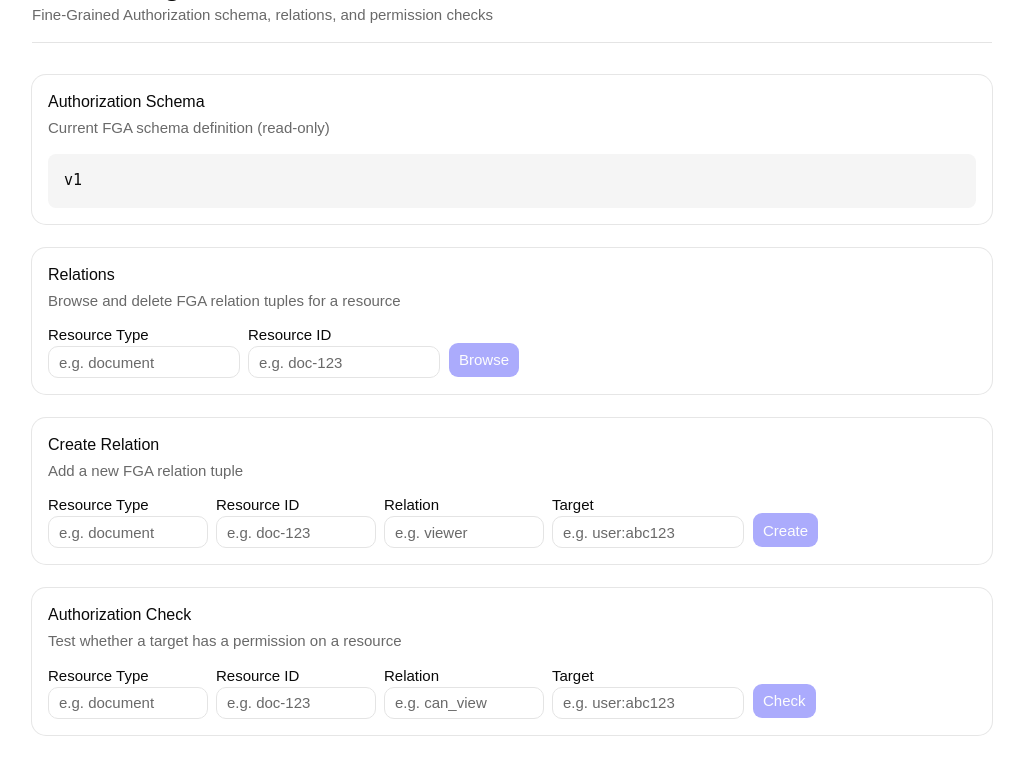
FGAManagement › admin user - authorization check › shows Allowed badge when permission is granted
This screenshot has width=1024, height=767.
(page scrolled)
Expected: the text "Authorization Check" is shown, x1=48 y1=606 x2=191 y2=623
In the field with id "check-resource-type": (128, 703) x1=48 y1=687 x2=208 y2=719, type "document"
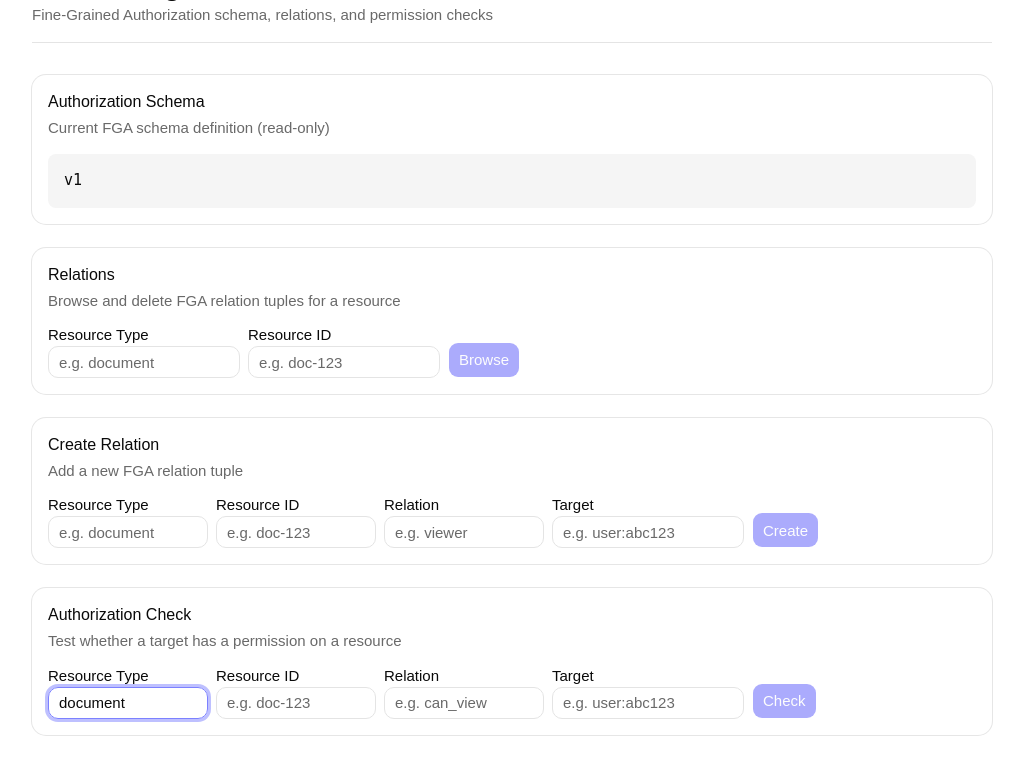
In the field with id "check-resource-id": (296, 703) x1=216 y1=687 x2=376 y2=719, type "doc-1"
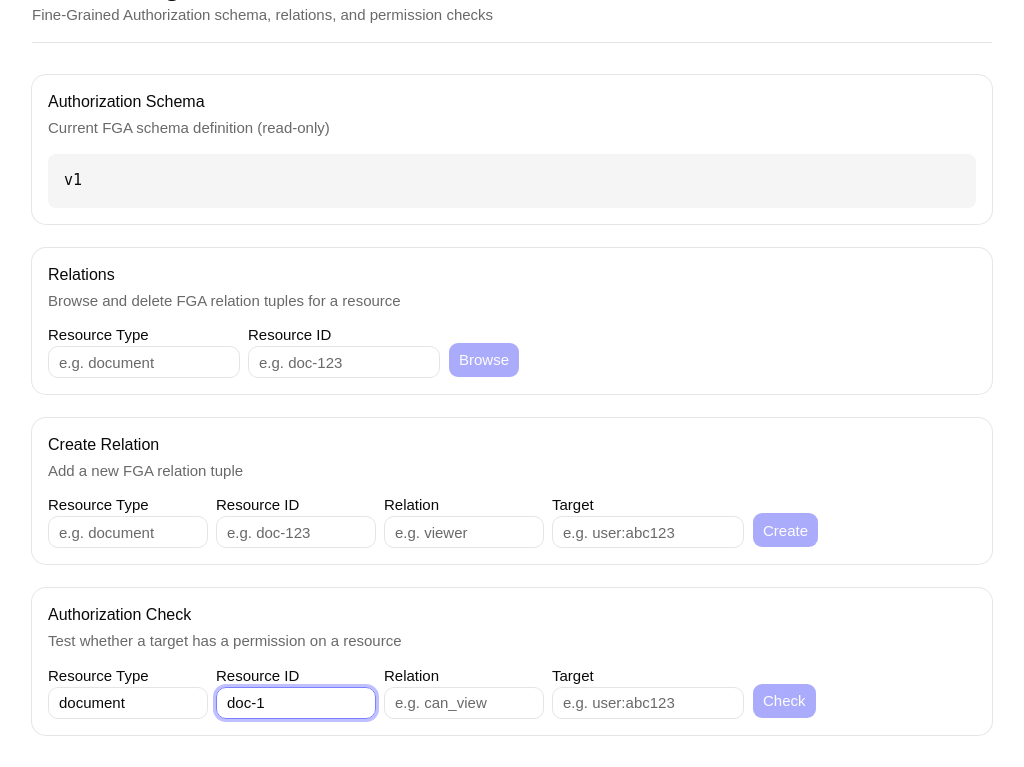
In the field with id "check-relation": (464, 703) x1=384 y1=687 x2=544 y2=719, type "can_view"
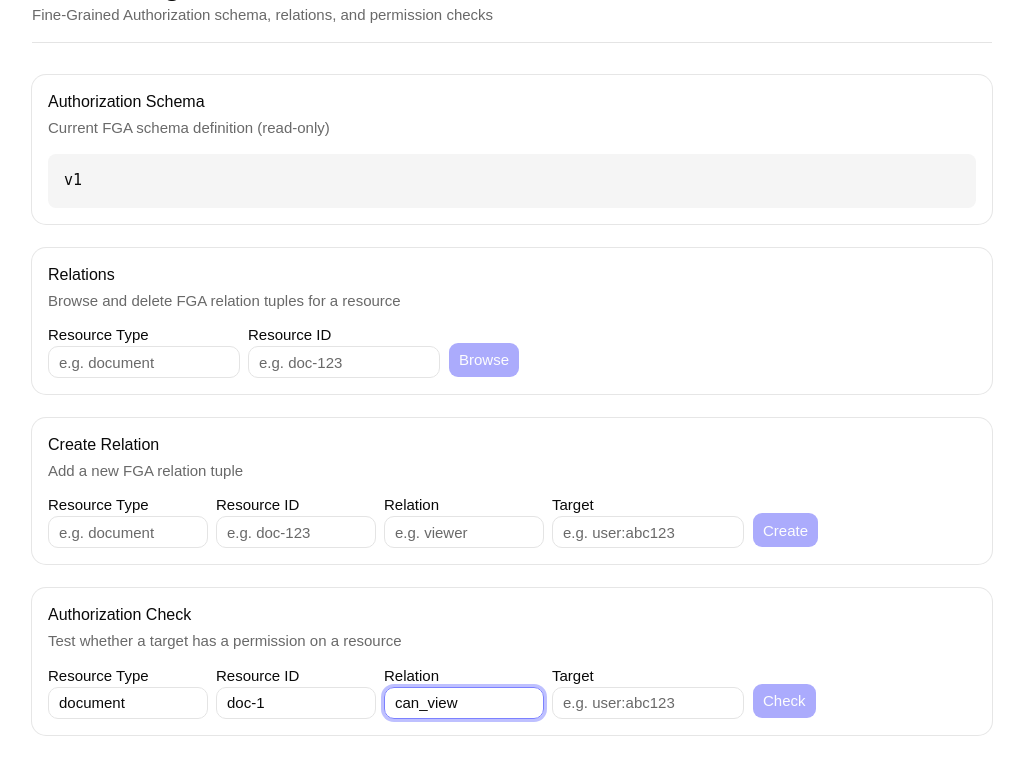
In the field with id "check-target": (648, 703) x1=552 y1=687 x2=744 y2=719, type "user:abc"
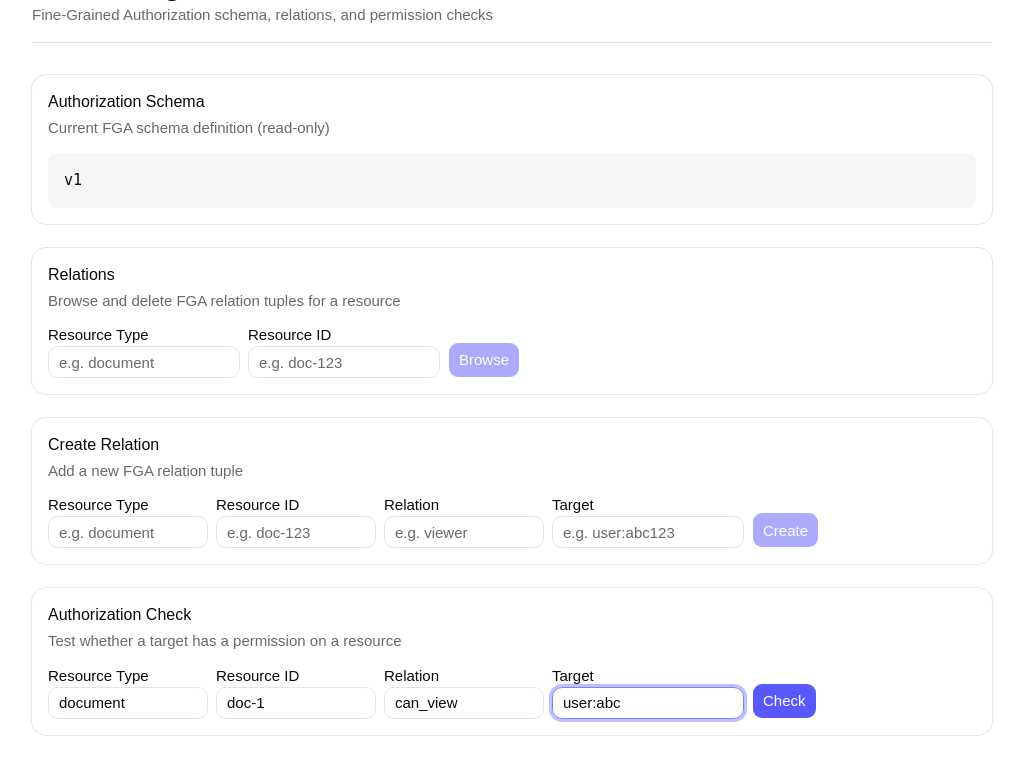
Click the button "Check": (784, 701) x1=752 y1=683 x2=816 y2=719
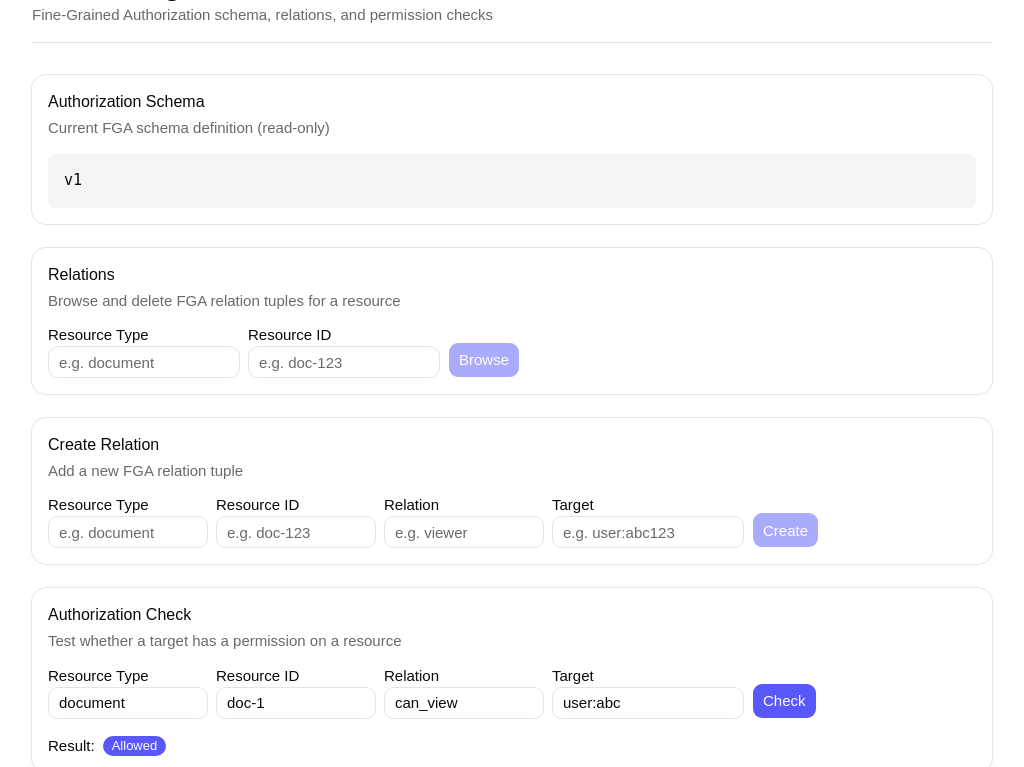
Result: the text "Allowed" is shown at x1=103 y1=736 x2=166 y2=756
